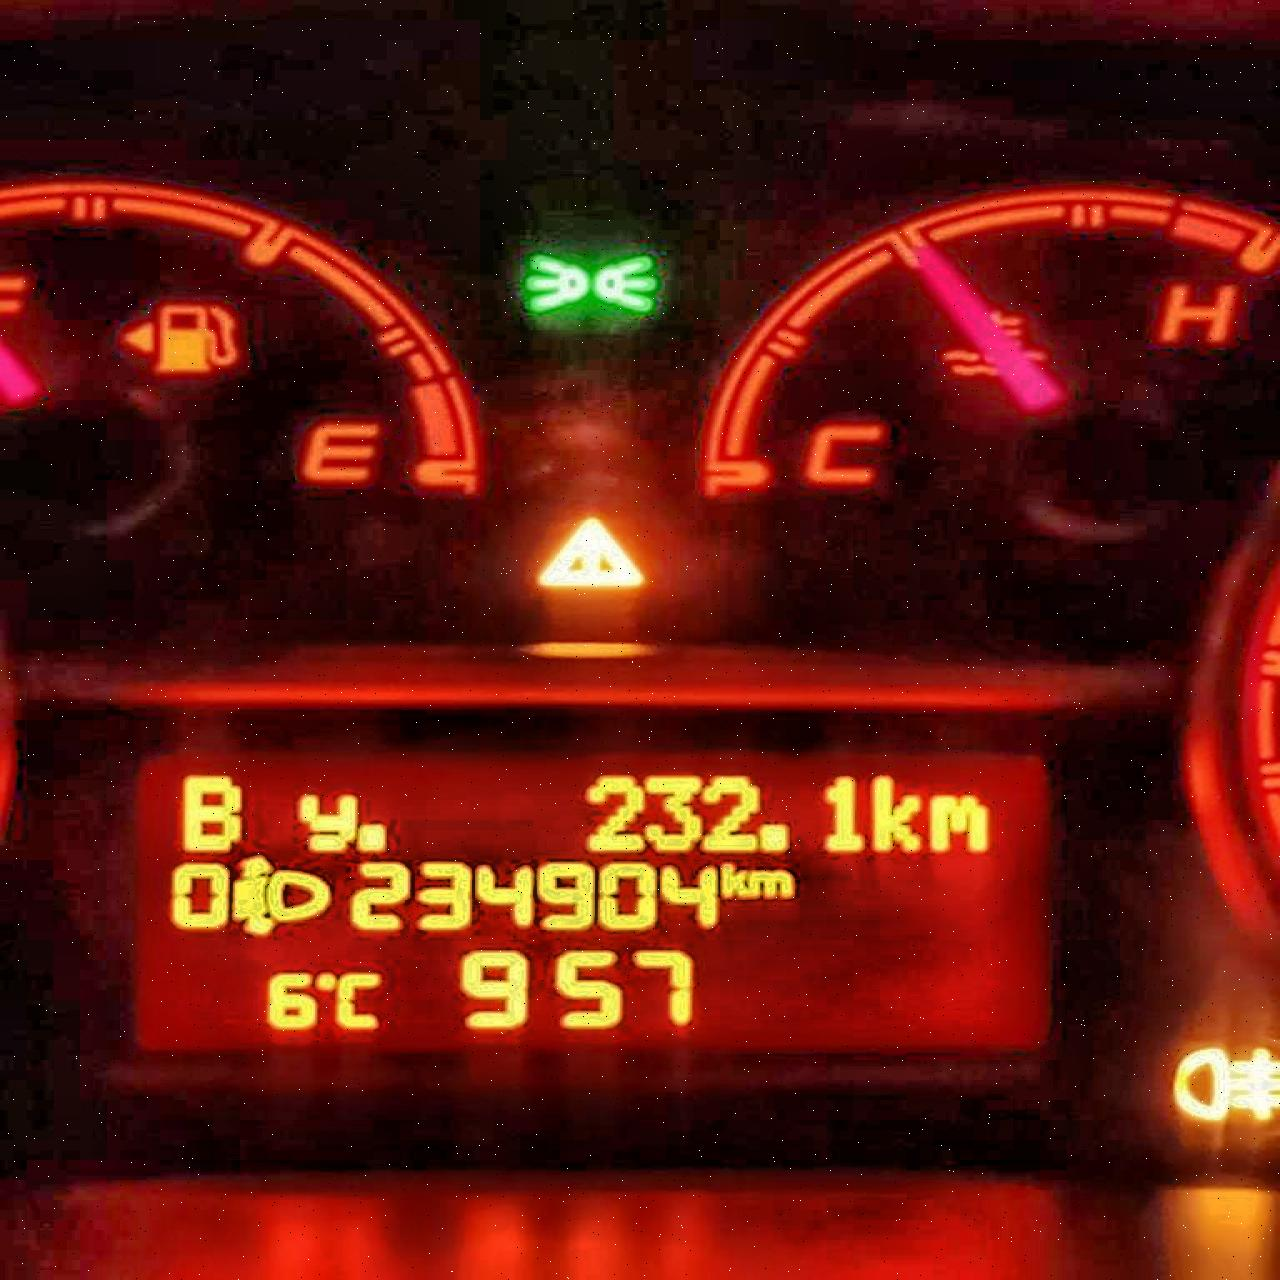-: (353, 815, 392, 856), (755, 816, 794, 855)
0: (598, 858, 655, 933), (170, 859, 229, 930)
1: (818, 767, 864, 858)
2: (584, 769, 641, 855), (348, 858, 409, 938), (706, 770, 757, 855)
3: (644, 769, 699, 852), (415, 855, 470, 931)
4: (471, 860, 531, 930), (656, 862, 716, 928)
5: (551, 948, 621, 1030)
6: (265, 967, 315, 1033)
7: (633, 944, 694, 1030)
9: (458, 948, 530, 1030), (540, 858, 595, 933)
X: (175, 769, 250, 853), (870, 771, 921, 851), (295, 790, 355, 852), (931, 790, 987, 852), (335, 965, 388, 1030), (750, 865, 794, 900), (719, 858, 750, 901)
odometer: (122, 733, 1063, 1071)
